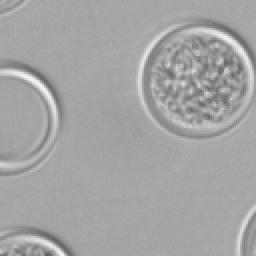picoshell: (136, 18, 254, 138), (0, 60, 62, 174), (0, 228, 70, 254), (236, 204, 254, 254)
